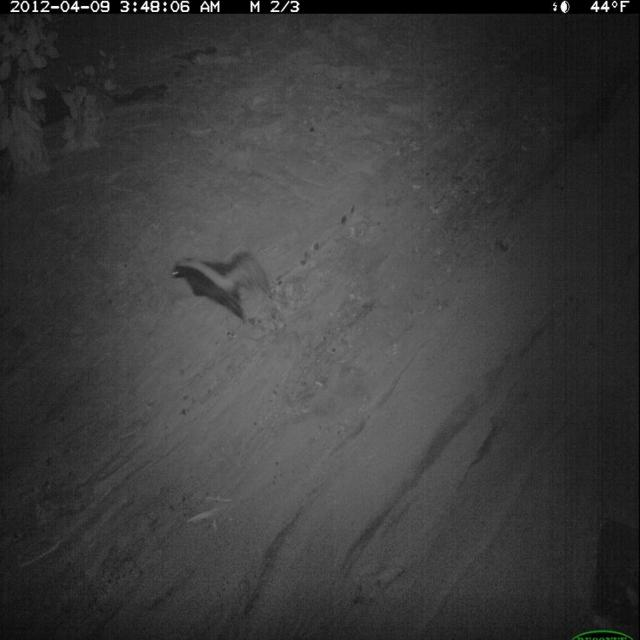skunk: (169, 245, 274, 323)
